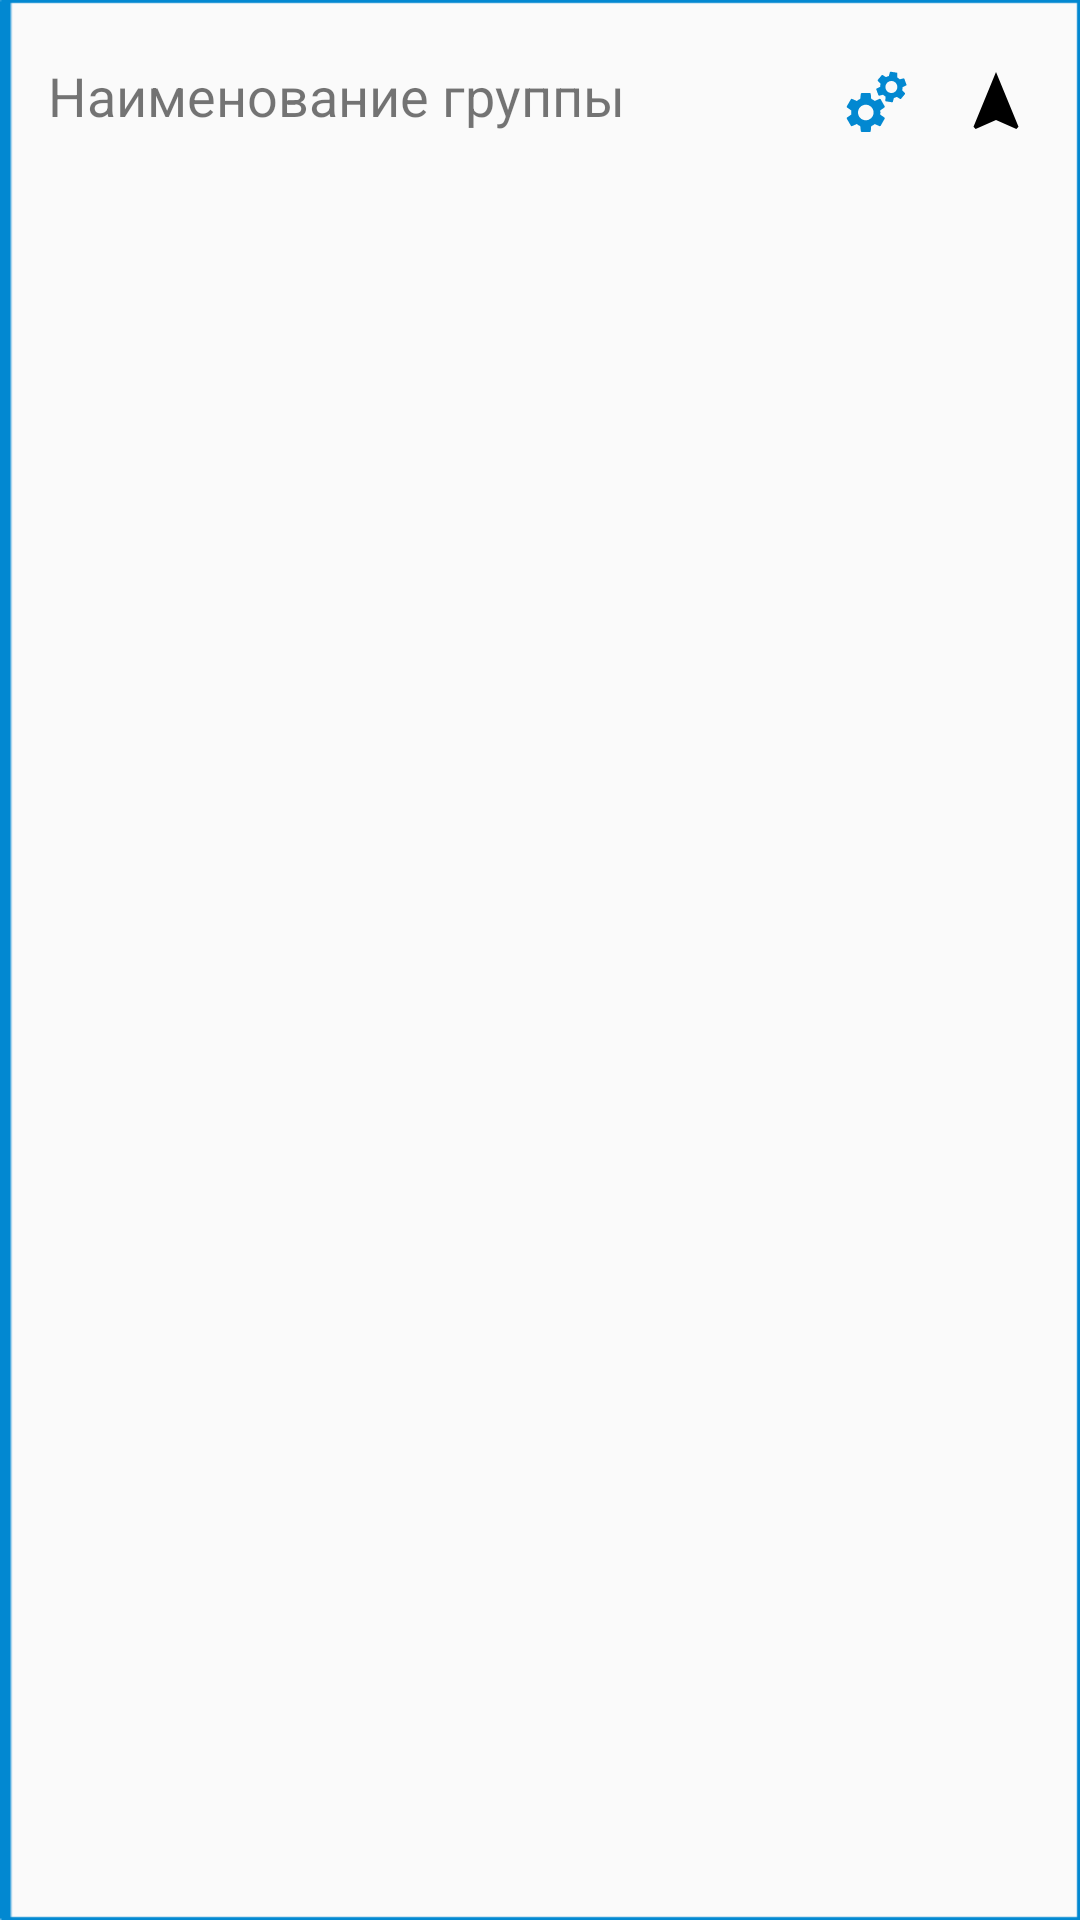

Where to tap for icons on this 1080w x 1920h app screen, as [x,y]:
arrow up: [996,100]
settings: [876,101]
